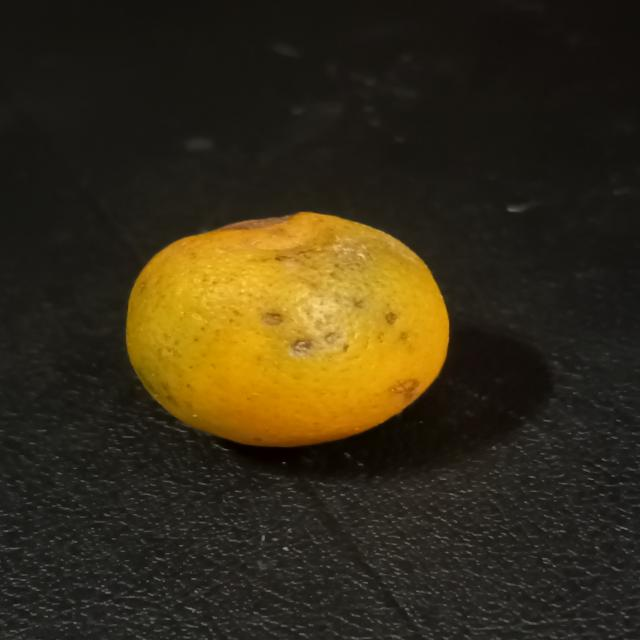black spot: (120, 203, 454, 447)
